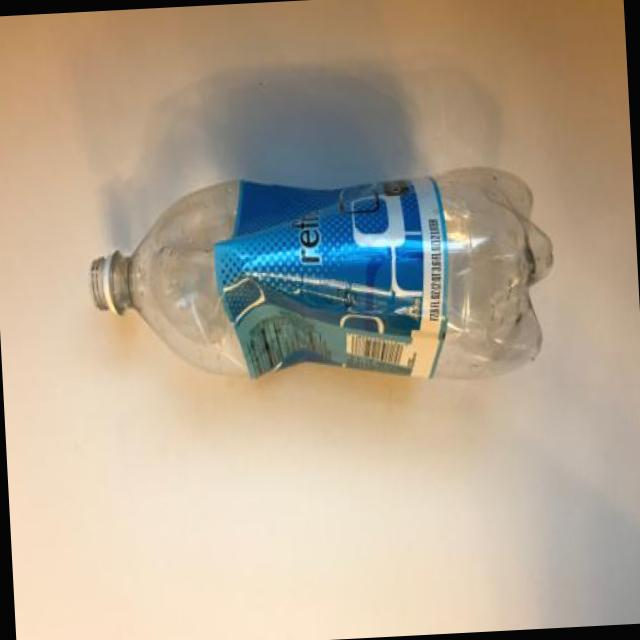Recycle: (84, 167, 558, 402)
